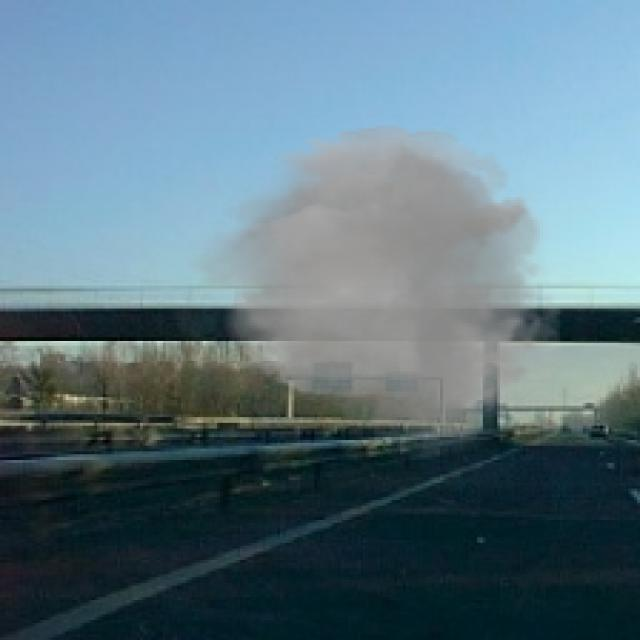Smoke: (177, 117, 580, 463)
